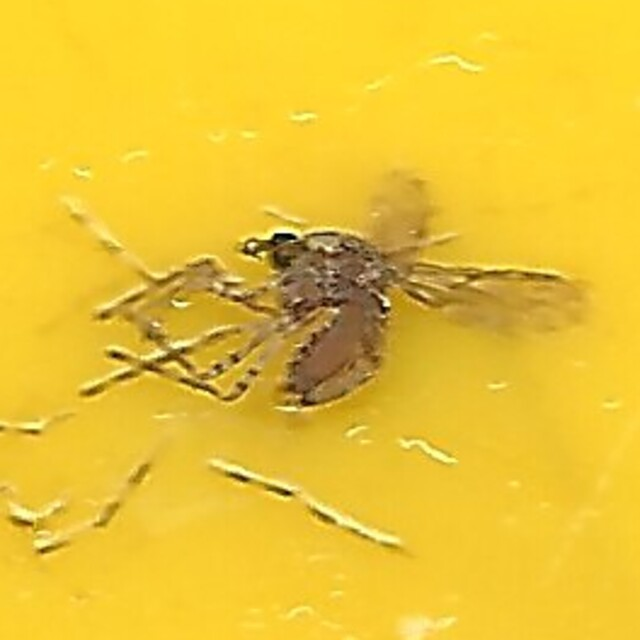Nematocera: (242, 222, 398, 418)
